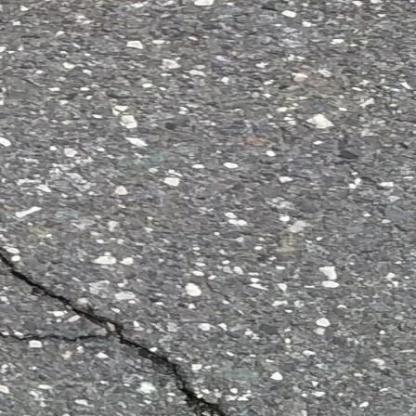Cracks: (0, 232, 254, 416)
